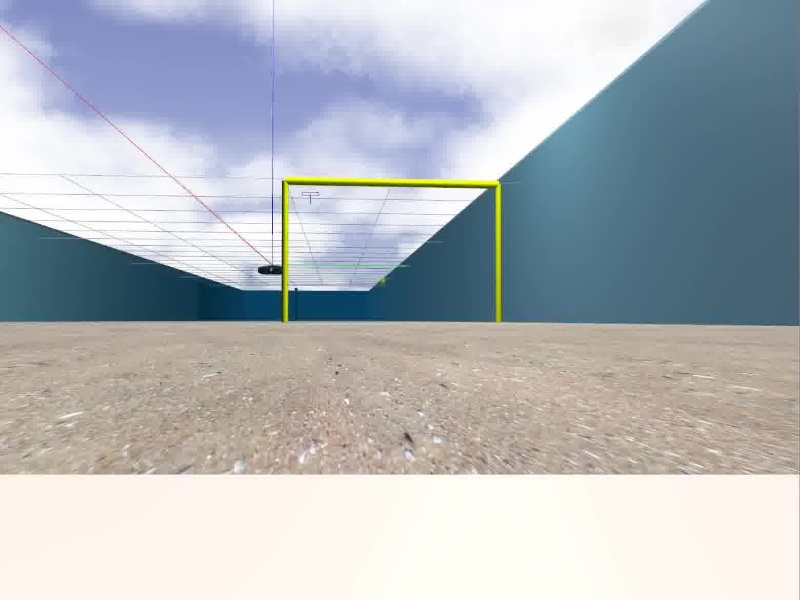gate: (281, 176, 502, 324)
